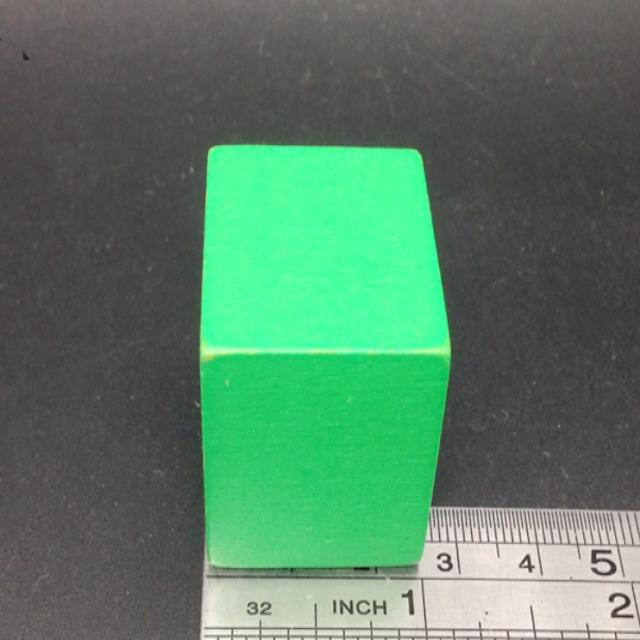green cube: (197, 143, 455, 576)
